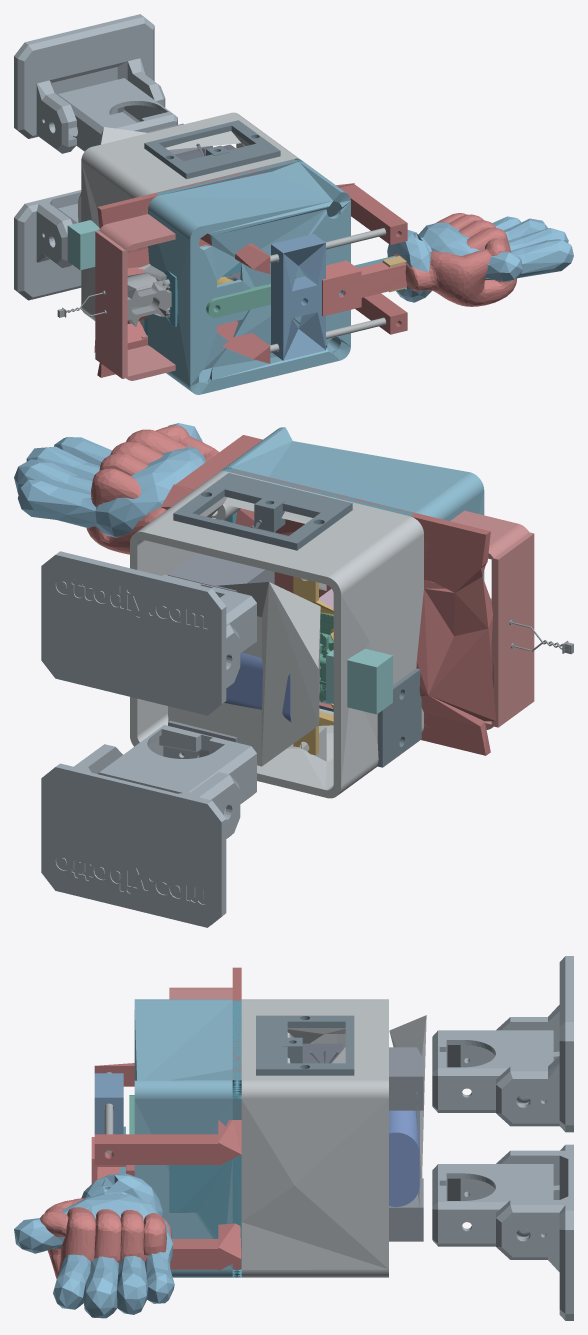
Rendered from 双机装配_简化审阅.glb.
3 views of the same model, one above another, from view 1: azimuth 30°, elevation 25°; view 2: azimuth 150°, elevation 25°; view 3: azimuth 270°, elevation 25° (orthographic). The views are drawn at different scales.
Visible parts, largest first — view 1: 12_巴掌可拆圆角头罩, R_foot_1, 01_共用身体_下部原Otto基准, F_实际拳头腕杆, 20_拳头固定底座_含隐藏过线槽, 21_拳头轻量侧护罩, P_04_完整手掌75mm_带接口, F_carriage, R_foot_-1, R_Leg_1, 03_开关可换安装面板, E02_USB数据线插拔预留 (+6 smaller); view 2: 01_共用身体_下部原Otto基准, R_foot_-1, R_foot_1, 20_拳头固定底座_含隐藏过线槽, 12_巴掌可拆圆角头罩, P_04_完整手掌75mm_带接口, 21_拳头轻量侧护罩, R_Leg_-1, 03_开关可换安装面板, F_实际拳头腕杆, E02_USB数据线插拔预留, 04_充电维护口盲板_待模块确认 (+6 smaller); view 3: 01_共用身体_下部原Otto基准, 12_巴掌可拆圆角头罩, P_04_完整手掌75mm_带接口, 20_拳头固定底座_含隐藏过线槽, R_Leg_1, R_Leg_-1, R_foot_1, R_foot_-1, F_实际拳头腕杆, 10_巴掌定位底座, 03_开关可换安装面板, R02_PC003电池本体 (+5 smaller).
Boxes of the visible parts, left/top/right/bottom form: 12_巴掌可拆圆角头罩: left=148, top=161, right=350, bottom=394; R_foot_1: left=14, top=14, right=165, bottom=153; 01_共用身体_下部原Otto基准: left=78, top=112, right=300, bottom=329; F_实际拳头腕杆: left=322, top=213, right=516, bottom=316; 20_拳头固定底座_含隐藏过线槽: left=94, top=159, right=407, bottom=377; 21_拳头轻量侧护罩: left=95, top=211, right=175, bottom=380; P_04_完整手掌75mm_带接口: left=387, top=216, right=573, bottom=302; F_carriage: left=271, top=234, right=343, bottom=360; R_foot_-1: left=14, top=190, right=81, bottom=300; R_Leg_1: left=57, top=78, right=177, bottom=151; 03_开关可换安装面板: left=144, top=120, right=280, bottom=179; E02_USB数据线插拔预留: left=67, top=220, right=99, bottom=270; 01_共用身体_下部原Otto基准: left=130, top=471, right=423, bottom=798; R_foot_-1: left=41, top=744, right=240, bottom=927; R_foot_1: left=41, top=551, right=240, bottom=715; 20_拳头固定底座_含隐藏过线槽: left=161, top=435, right=496, bottom=755; 12_巴掌可拆圆角头罩: left=223, top=427, right=484, bottom=580; P_04_完整手掌75mm_带接口: left=14, top=423, right=205, bottom=537; 21_拳头轻量侧护罩: left=424, top=510, right=534, bottom=729; R_Leg_-1: left=98, top=725, right=256, bottom=803; 03_开关可换安装面板: left=173, top=473, right=352, bottom=550; F_实际拳头腕杆: left=86, top=425, right=218, bottom=554; E02_USB数据线插拔预留: left=326, top=648, right=392, bottom=714; 04_充电维护口盲板_待模块确认: left=377, top=668, right=421, bottom=767; 01_共用身体_下部原Otto基准: left=241, top=999, right=426, bottom=1277; 12_巴掌可拆圆角头罩: left=134, top=999, right=232, bottom=1277; P_04_完整手掌75mm_带接口: left=14, top=1174, right=174, bottom=1318; 20_拳头固定底座_含隐藏过线槽: left=94, top=967, right=241, bottom=1270; R_Leg_1: left=432, top=1030, right=553, bottom=1112; R_Leg_-1: left=432, top=1164, right=553, bottom=1246; R_foot_1: left=496, top=956, right=573, bottom=1132; R_foot_-1: left=496, top=1144, right=573, bottom=1320; F_实际拳头腕杆: left=40, top=1137, right=171, bottom=1278; 10_巴掌定位底座: left=178, top=1000, right=241, bottom=1277; 03_开关可换安装面板: left=256, top=1015, right=354, bottom=1075; R02_PC003电池本体: left=389, top=1110, right=419, bottom=1206.
Bounding box in the file's own units: 216 × 114 × 194.
